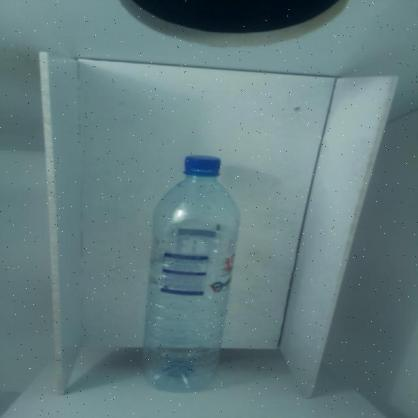bottle: (138, 152, 242, 394)
cap: (184, 153, 222, 178)
label: (147, 246, 234, 297)
